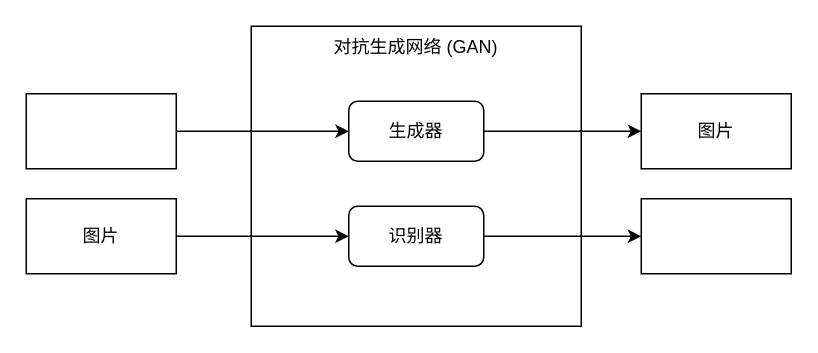
Some shapes in this 818 by 353 pixel diagram are drawn without their labels. Each missing label, with the centre of its shape:
"是真还是假" belongs at point (715, 235).
"随机条件" belongs at point (100, 130).
